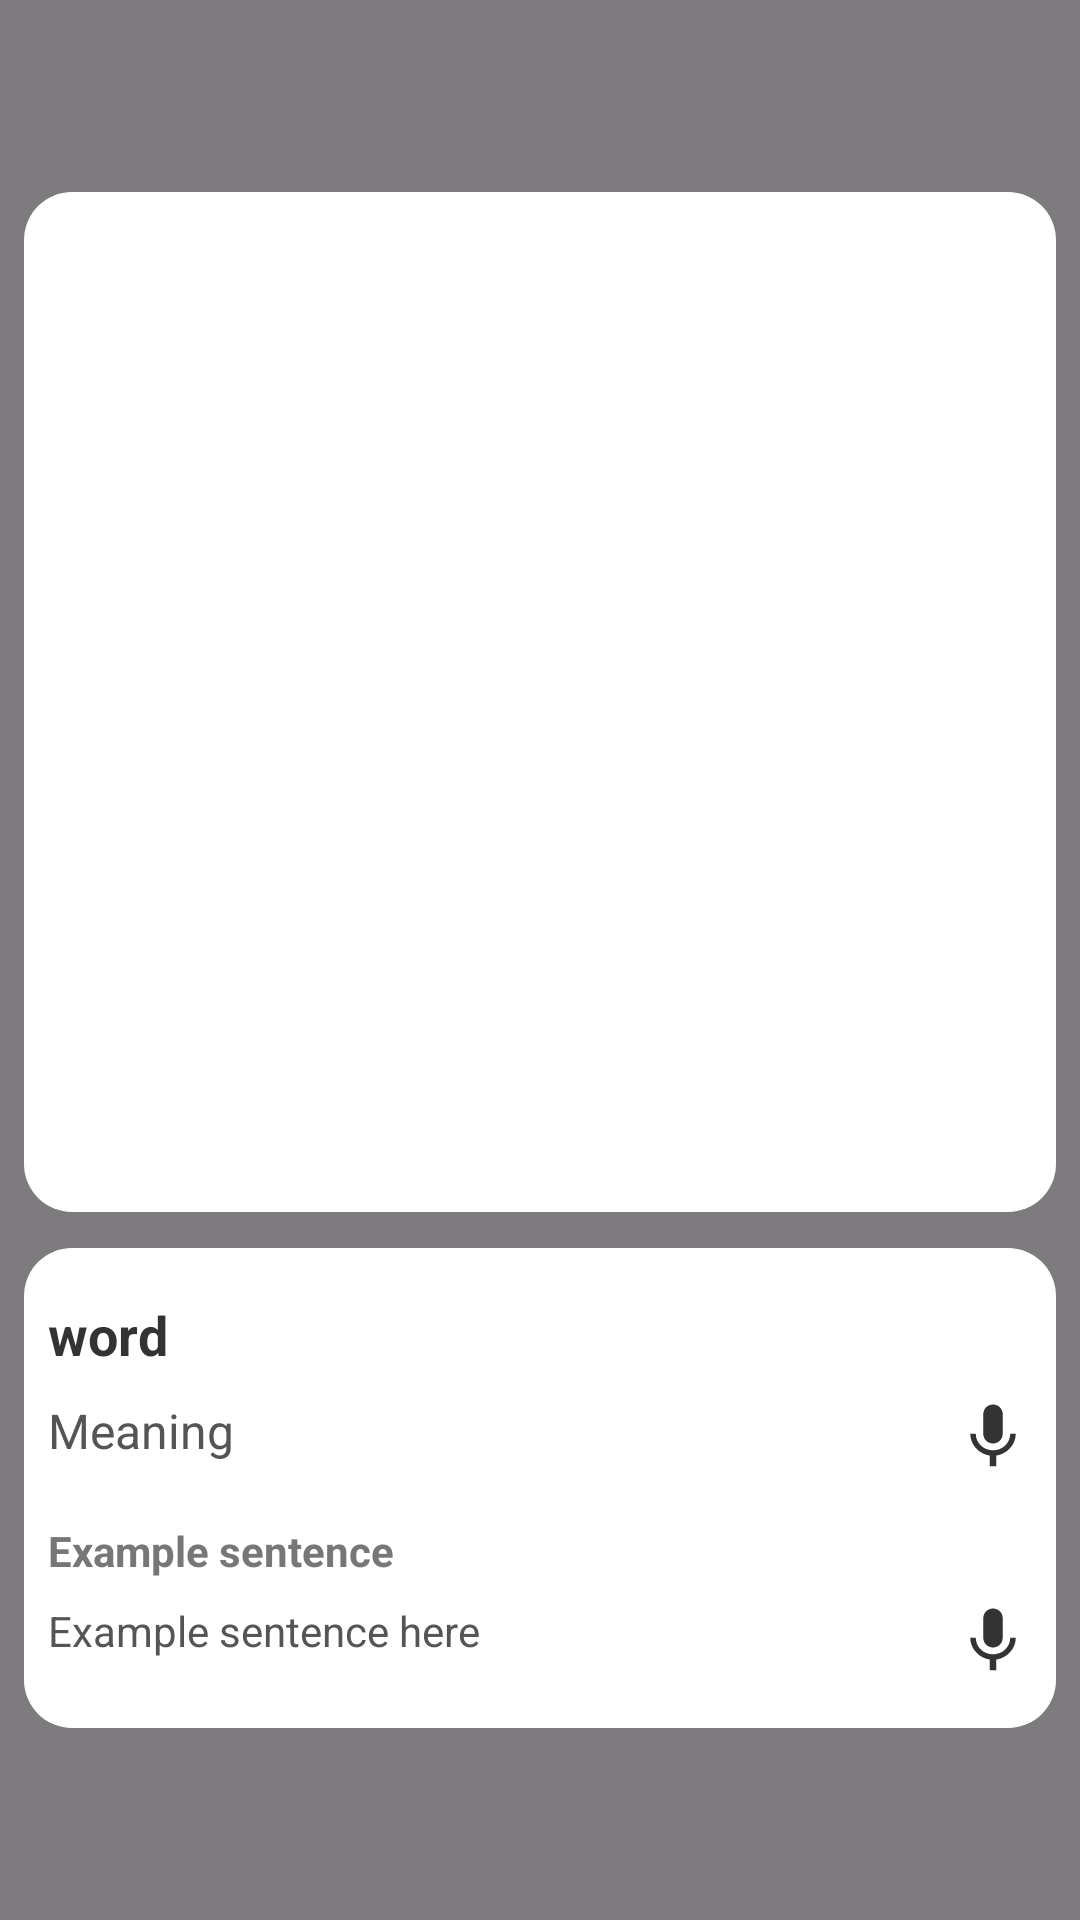

Icons on this 1080 × 1920 Android screen, each with its box as BBox(x1, y1, x2, y2):
Start speech recognition: BBox(970, 1404, 1016, 1467), BBox(970, 1608, 1016, 1671)
